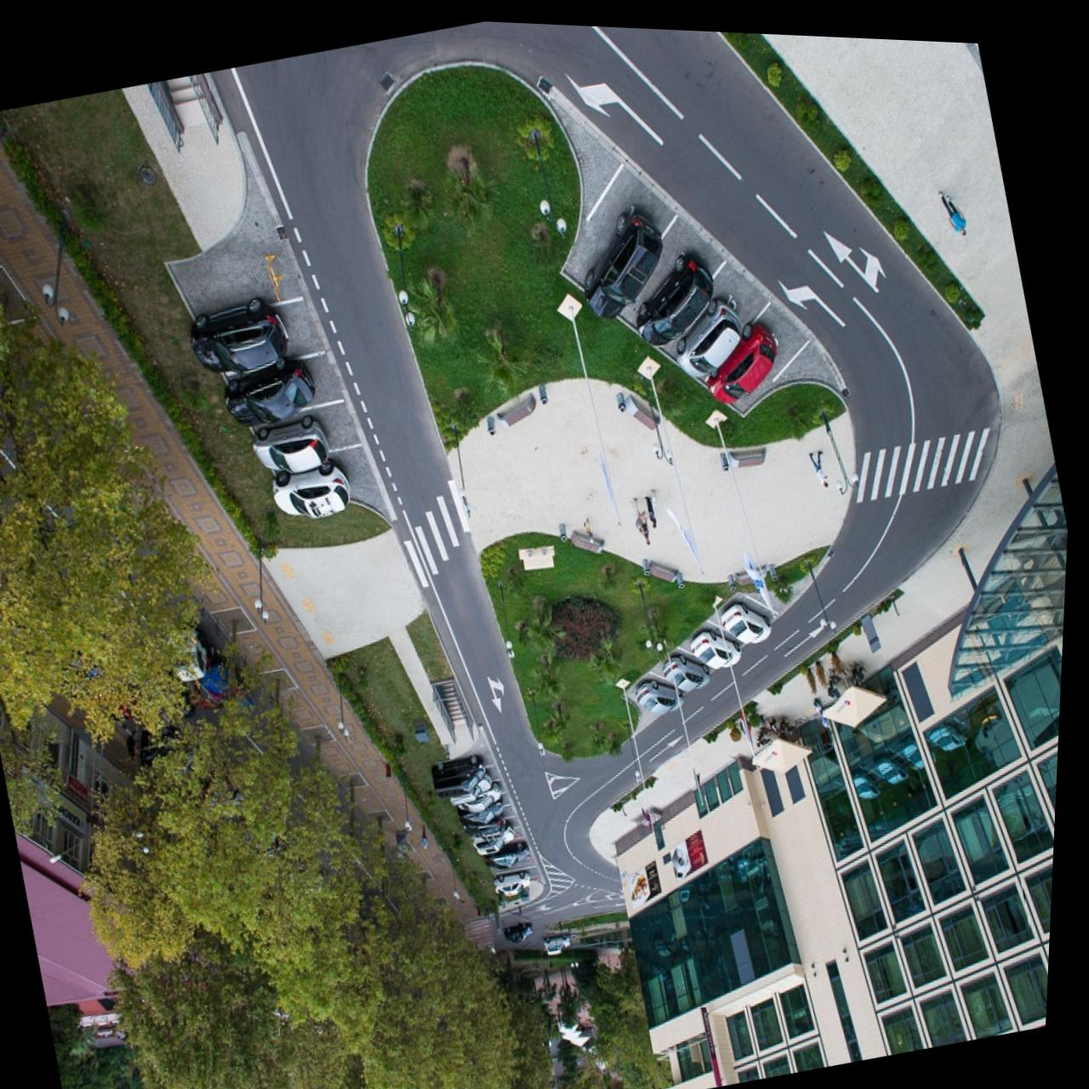cars: (552, 163, 680, 318), (610, 216, 728, 357), (656, 257, 774, 389), (170, 219, 298, 326), (707, 292, 817, 411), (188, 290, 320, 387), (249, 398, 356, 474), (222, 359, 332, 430), (271, 442, 372, 518), (675, 605, 759, 680), (708, 579, 785, 657), (622, 662, 690, 737), (654, 637, 720, 706), (424, 736, 496, 796), (454, 802, 532, 850), (463, 816, 538, 861), (442, 764, 507, 814), (447, 788, 519, 832), (448, 774, 514, 821), (479, 827, 537, 874), (490, 869, 538, 901)
empty: (482, 848, 544, 888)
